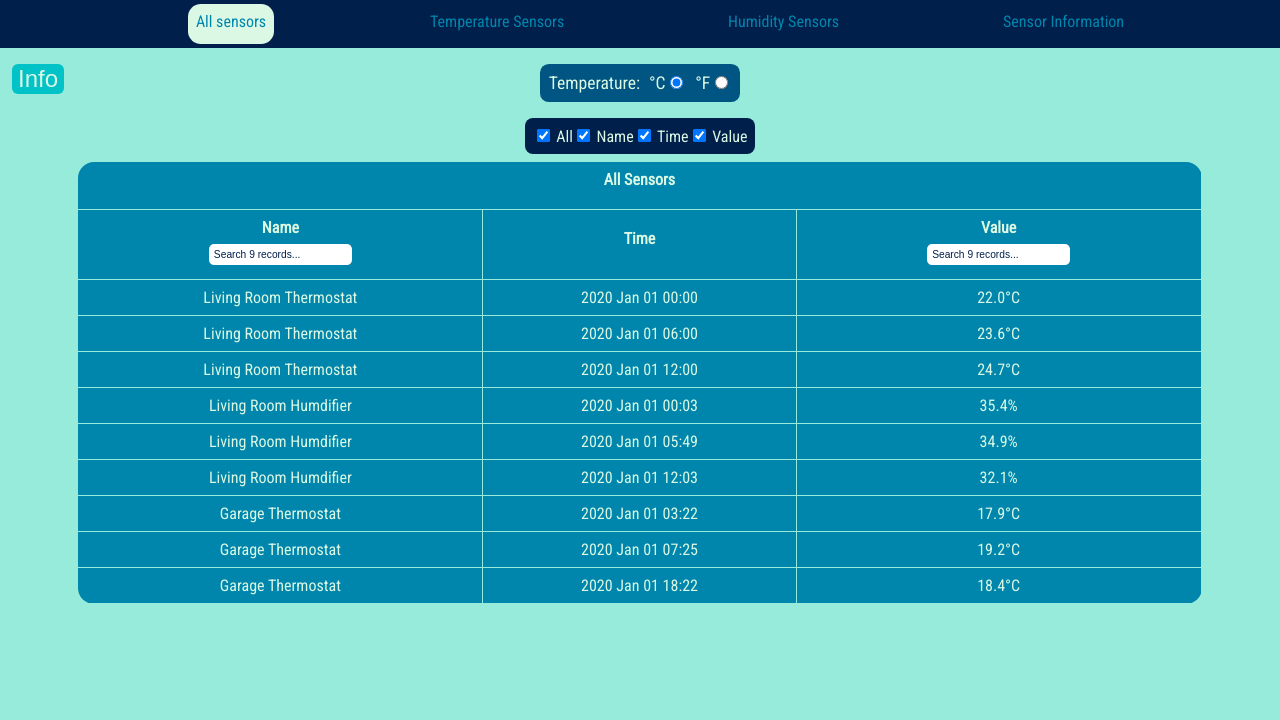
Test: Navigation › should show information on click
What coordinates should you click on to do the following:
click the button with class "Info-button"
I would click on:
 (38, 79)
Its box is [12,64,64,94].
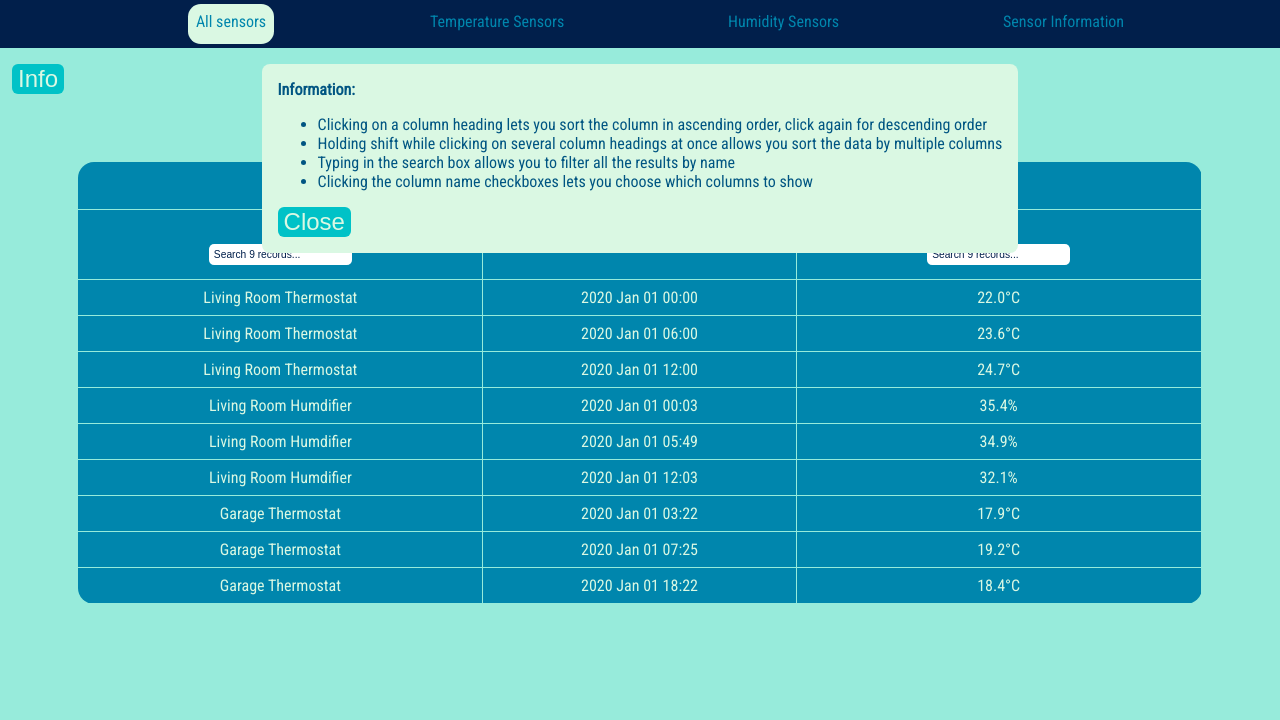
Expected: the text "Information:" is shown, [278,80,355,99]
